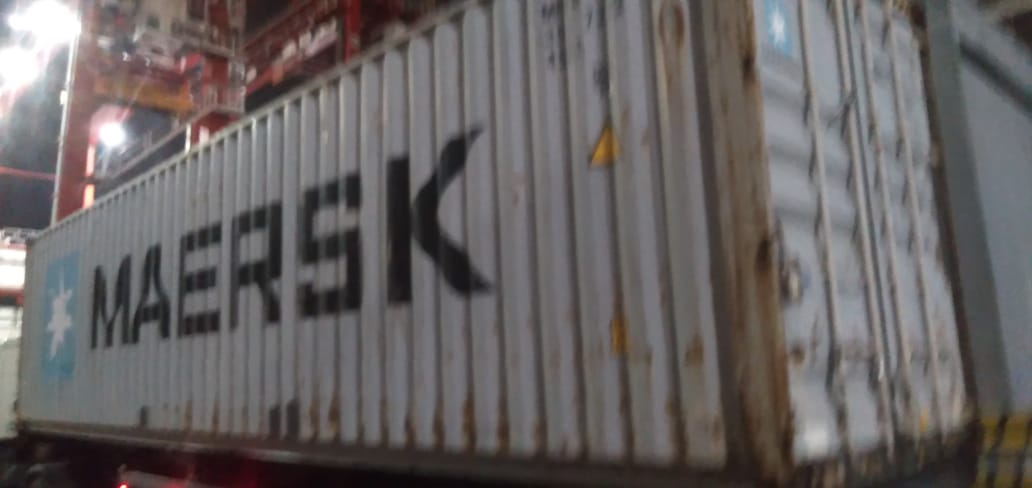left_side: (1, 1, 775, 466)
rear_side: (704, 1, 980, 436)
